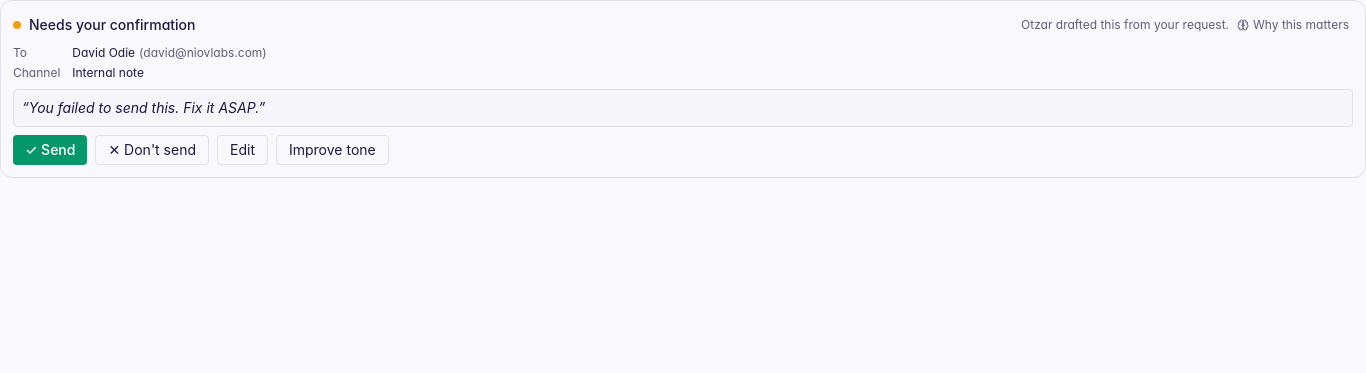
Test case: ProposedActionCard — advisory draft tone › shows an Improve tone control and renders a validated assessment as advisory
Click the button with test id "ctx-improve-tone-button" at (332,150), box 276,135 -> 389,165
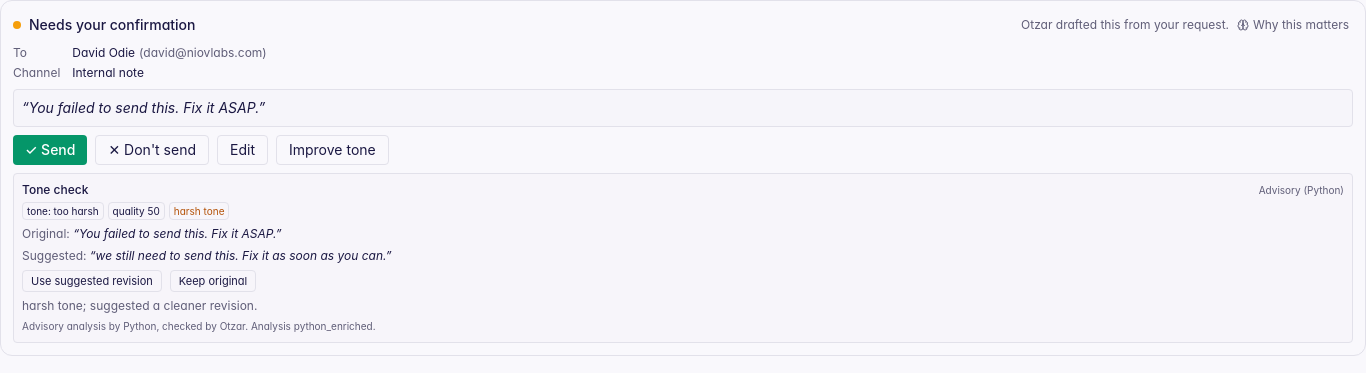
Check: the element with test id "ctx-tone-panel" is shown, box 13,173 -> 1353,343
Check: the text with test id "ctx-tone-advisory-label" reads "Advisory (Python)", box 1259,184 -> 1344,196
Check: the text with test id "ctx-tone-label" shows "too harsh", box 54,205 -> 99,217
